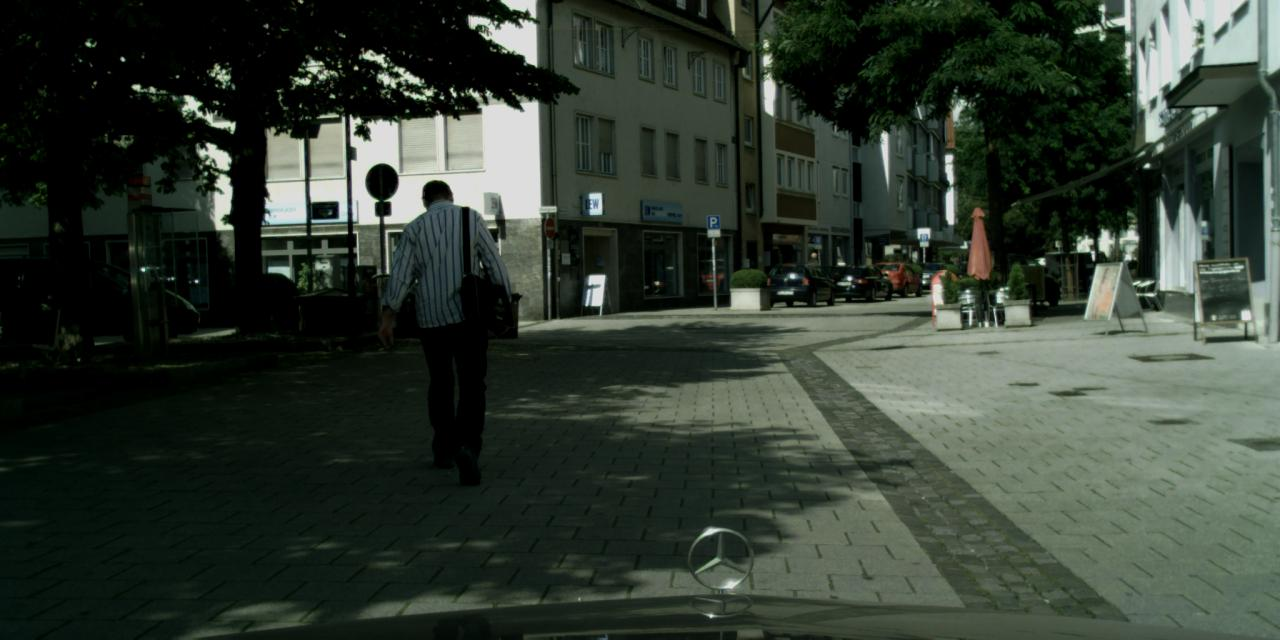ped: (385, 179, 506, 474), (806, 252, 820, 288)
